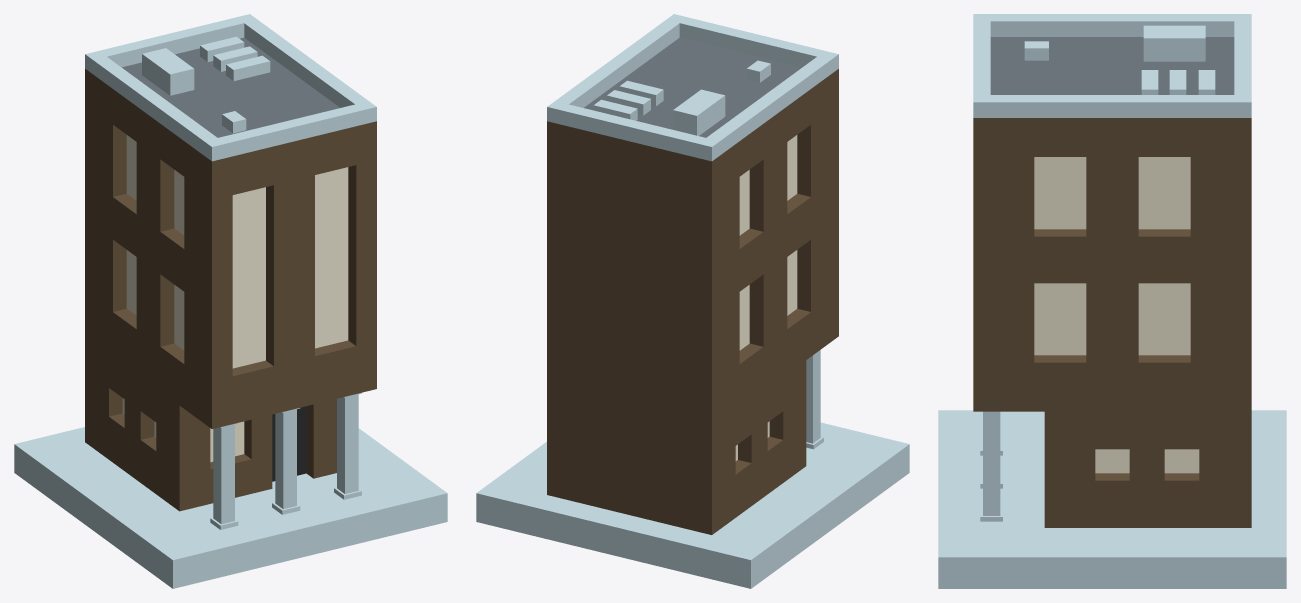
File: Building_9_Base_Extra (Brown).obj
3 renders of one model, left to right at view 1: azimuth 30°, elevation 25°; view 2: azimuth 150°, elevation 25°; view 3: azimuth 270°, elevation 25°, orthographic. The views are drawn at different scales.
Visible parts, largest first — view 1: Building_9_Base_Extra_(Brown); view 2: Building_9_Base_Extra_(Brown); view 3: Building_9_Base_Extra_(Brown).
Boxes of the visible parts, box(x1,y1,x2,y2) form: Building_9_Base_Extra_(Brown): box(14, 14, 447, 588); Building_9_Base_Extra_(Brown): box(476, 14, 909, 588); Building_9_Base_Extra_(Brown): box(938, 14, 1286, 588).
Bounding box in the file's own units: 2 × 2.95 × 2.
